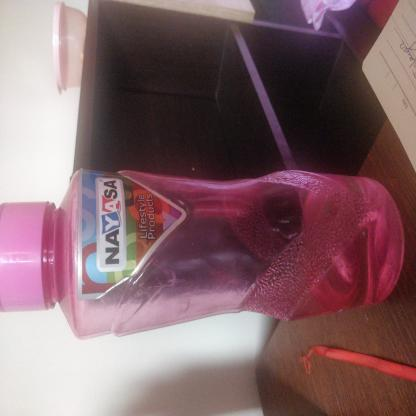bottle: (57, 1, 188, 416)
